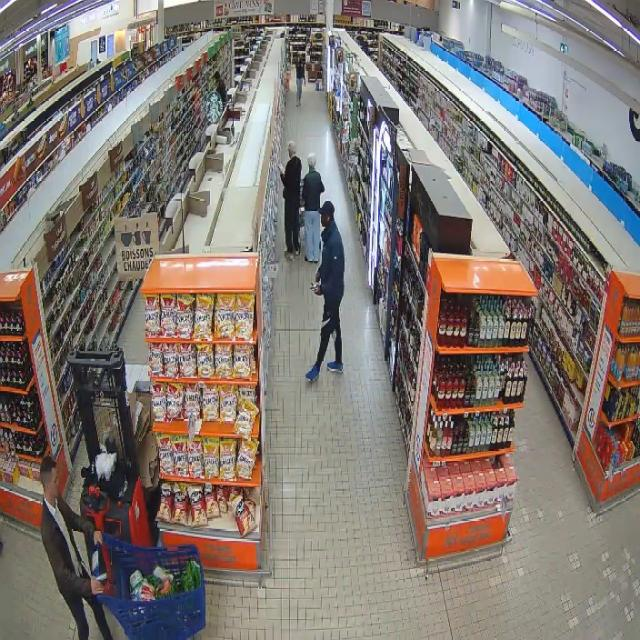article: (310, 280, 321, 289), (278, 163, 285, 174)
hands: (91, 577, 103, 595), (94, 529, 102, 544), (312, 285, 322, 296), (316, 269, 319, 282)
person: (40, 456, 111, 639), (306, 201, 344, 382), (280, 142, 301, 257), (302, 154, 324, 262)
